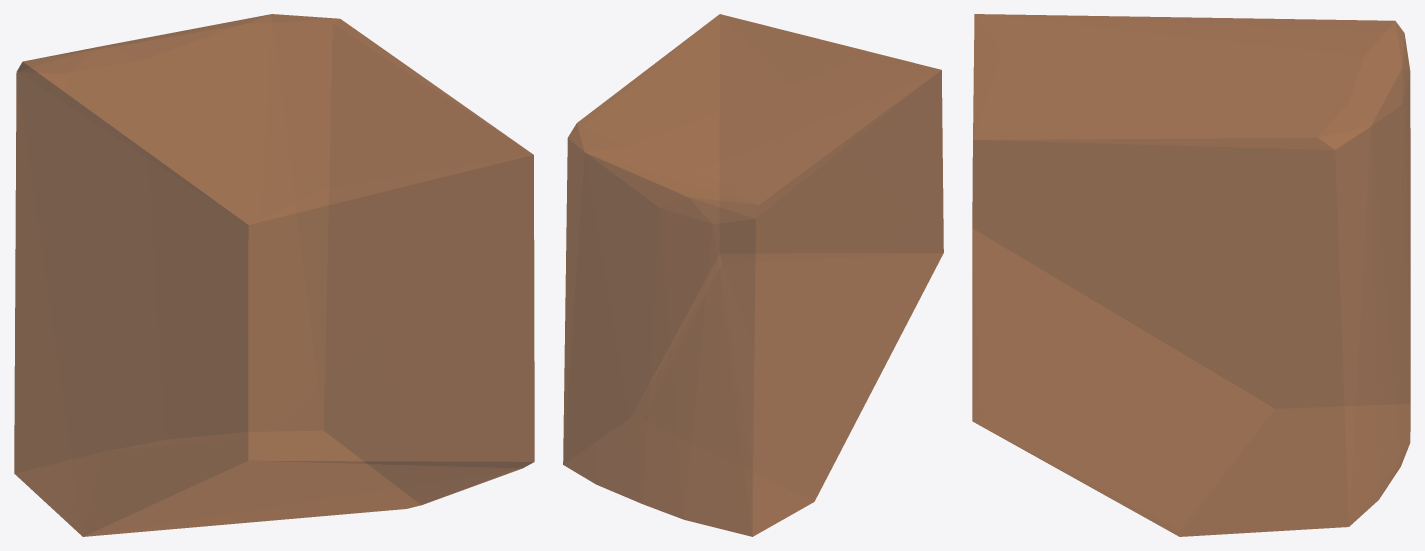
3 renders of one model, left to right at view 1: azimuth 30°, elevation 25°; view 2: azimuth 150°, elevation 25°; view 3: azimuth 270°, elevation 25°, orthographic. The views are drawn at different scales.
Visible parts, largest first — view 1: Shape_IndexedFaceSet.005_Shape_IndexedFaceSet.9091; view 2: Shape_IndexedFaceSet.005_Shape_IndexedFaceSet.9091; view 3: Shape_IndexedFaceSet.005_Shape_IndexedFaceSet.9091.
Boxes of the visible parts, bbox=[...] form: Shape_IndexedFaceSet.005_Shape_IndexedFaceSet.9091: bbox=[14, 14, 534, 536]; Shape_IndexedFaceSet.005_Shape_IndexedFaceSet.9091: bbox=[563, 14, 943, 536]; Shape_IndexedFaceSet.005_Shape_IndexedFaceSet.9091: bbox=[972, 14, 1410, 536].
Size of the model in its own units: 0.1139 by 0.1649 by 0.1649.
